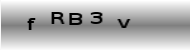3: (90, 9, 104, 25)
B: (67, 11, 83, 27)
R: (50, 10, 66, 26)
f: (26, 17, 38, 30)
v: (116, 16, 132, 30)
